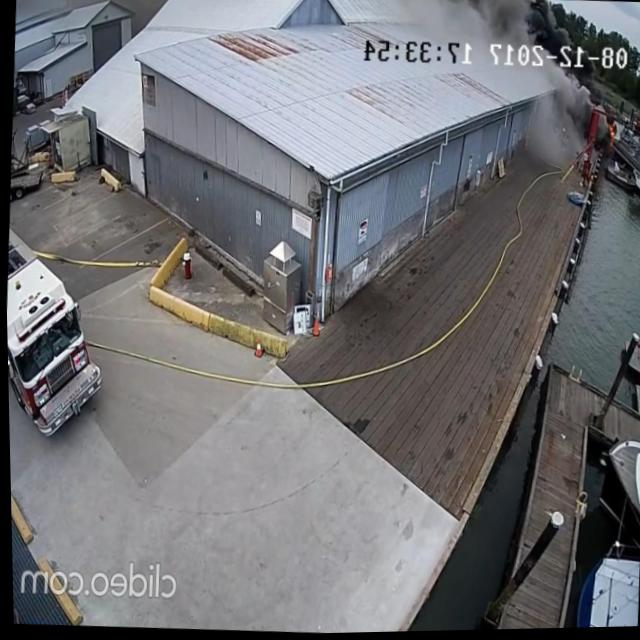fire: (601, 122, 618, 160)
